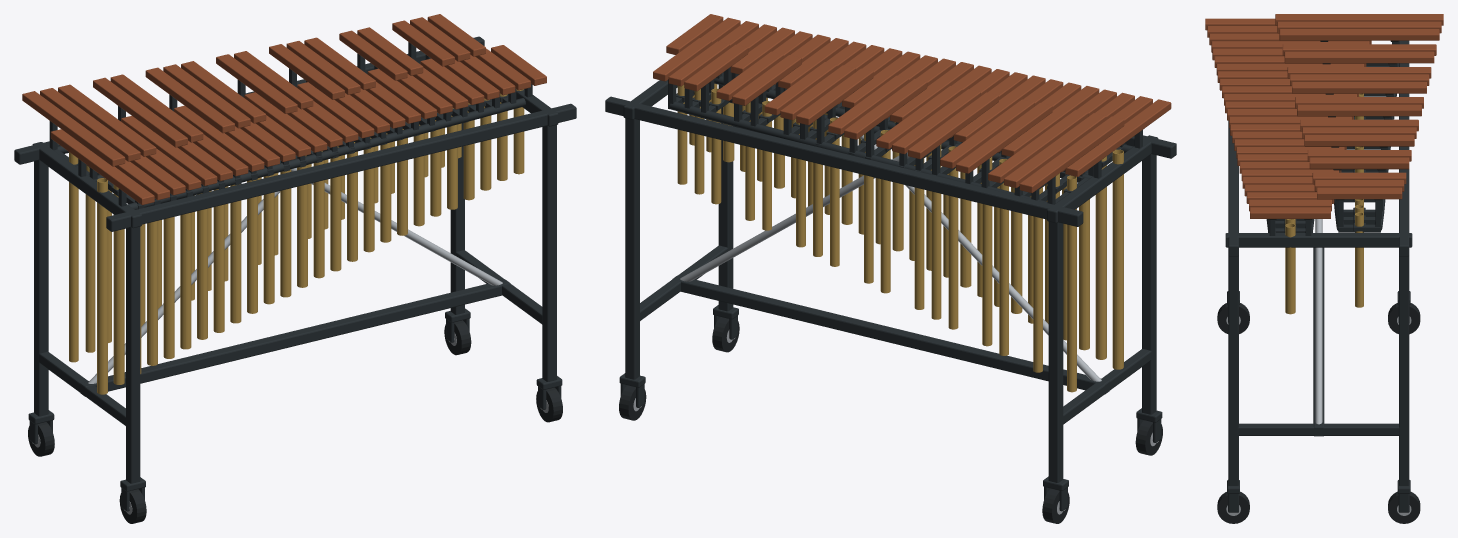
File: A-NEW-20261026-WOOD-XYLOPHONE-001_LOD1_R3.fbx
3 views of the same model, side by side, from view 1: azimuth 30°, elevation 25°; view 2: azimuth 150°, elevation 25°; view 3: azimuth 270°, elevation 25° (orthographic). The views are drawn at different scales.
Parts seen in each view (by area): view 1: long top frame -0.21, lower longitudinal stabilizer, stand leg -0.55 -0.21, stand leg 0.55 -0.21, stand leg -0.55 0.21, bar support longitudinal rail 0, open resonator tube 00, open resonator tube 02, open resonator tube 01, wood note bar 01, top cross member -0.55, wood note bar 00 (+70 smaller); view 2: long top frame 0.21, lower longitudinal stabilizer, stand leg -0.55 0.21, stand leg 0.55 0.21, stand leg -0.55 -0.21, open resonator tube 00, bar support longitudinal rail 3, open resonator tube 02, wood note bar 01, stand leg 0.55 -0.21, top cross member -0.55, wood note bar 00 (+51 smaller); view 3: stand leg 0.55 -0.21, stand leg 0.55 0.21, top cross member 0.55, bottom cross member 0.55, wood note bar 10, wood note bar 05, wood note bar 22, wood note bar 17, diagonal brace right, wood note bar 29, wood note bar 01, wood note bar 03 (+46 smaller).
Boxes of the visible parts, x1,y1,x2,y2 form: long top frame -0.21: (106, 103, 576, 231); lower longitudinal stabilizer: (80, 279, 510, 396); stand leg -0.55 -0.21: (126, 226, 140, 483); stand leg 0.55 -0.21: (542, 125, 556, 381); stand leg -0.55 0.21: (34, 160, 48, 416); bar support longitudinal rail 0: (128, 98, 525, 209); open resonator tube 00: (97, 178, 107, 394); open resonator tube 02: (113, 185, 124, 384); open resonator tube 01: (69, 152, 78, 362); wood note bar 01: (22, 91, 125, 166); top cross member -0.55: (32, 142, 141, 228); wood note bar 00: (50, 129, 154, 205); long top frame 0.21: (605, 96, 1083, 226); lower longitudinal stabilizer: (672, 275, 1109, 394); stand leg -0.55 0.21: (1048, 221, 1063, 482); stand leg 0.55 0.21: (625, 118, 639, 379); stand leg -0.55 -0.21: (1142, 154, 1156, 414); open resonator tube 00: (1112, 149, 1123, 369); bar support longitudinal rail 3: (669, 101, 1047, 202); open resonator tube 02: (1095, 156, 1106, 359); wood note bar 01: (1019, 116, 1124, 192); stand leg 0.55 -0.21: (718, 84, 733, 311); top cross member -0.55: (1047, 135, 1158, 223); wood note bar 00: (1065, 99, 1171, 176); stand leg 0.55 -0.21: (1228, 256, 1238, 485); stand leg 0.55 0.21: (1399, 256, 1409, 485); top cross member 0.55: (1225, 233, 1412, 247); bottom cross member 0.55: (1238, 423, 1399, 435); wood note bar 10: (1284, 51, 1434, 63); wood note bar 05: (1279, 29, 1439, 40); wood note bar 22: (1297, 104, 1421, 116); wood note bar 17: (1292, 82, 1426, 93); diagonal brace right: (1315, 219, 1322, 424); wood note bar 29: (1304, 134, 1414, 146); wood note bar 01: (1275, 14, 1443, 25); wood note bar 03: (1277, 21, 1441, 33).
Size of the model in its own units: 123 by 87 by 58.74.
